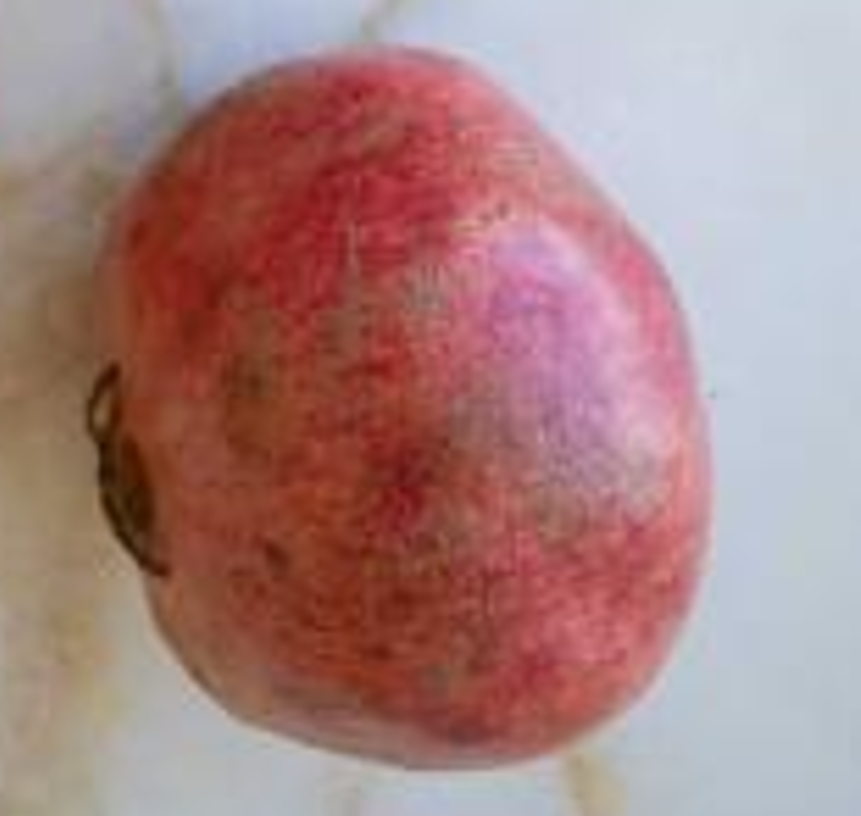pomegranate_B: (85, 43, 717, 773)
